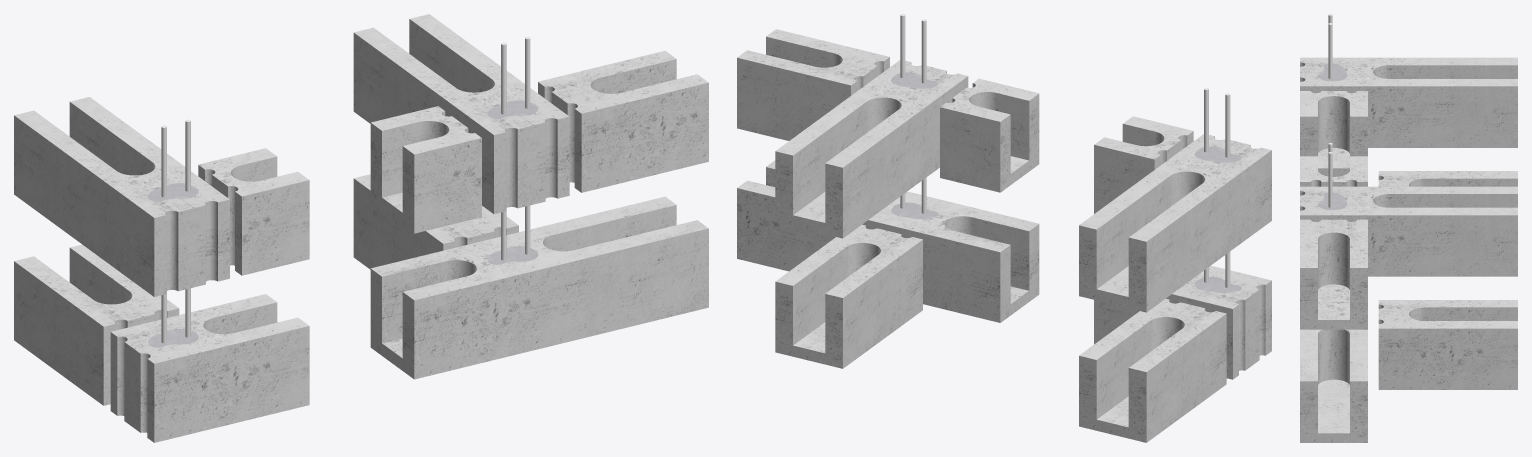
File: block-wall-core-column.glb
3 views of the same model, side by side, from view 1: azimuth 30°, elevation 25°; view 2: azimuth 150°, elevation 25°; view 3: azimuth 270°, elevation 25° (orthographic). The views are drawn at different scales.
Visible parts, largest first — view 1: 砌块墙体, 2Φ12通长筋, 灌C15细石混凝土; view 2: 砌块墙体, 2Φ12通长筋, 灌C15细石混凝土; view 3: 砌块墙体, 灌C15细石混凝土, 2Φ12通长筋.
Part boxes in pixels (x1,y1,x2,y2): 砌块墙体: (14,14,708,442); 2Φ12通长筋: (161,37,530,343); 灌C15细石混凝土: (148,100,538,347); 砌块墙体: (737,29,1271,442); 2Φ12通长筋: (900,14,1230,287); 灌C15细石混凝土: (891,72,1242,293); 砌块墙体: (1300,57,1517,442); 灌C15细石混凝土: (1318,63,1347,210); 2Φ12通长筋: (1328,14,1332,207).
Bounding box in the file's own units: 1.39 × 0.707 × 0.61.
Materials: 3 (2 with a texture image).
